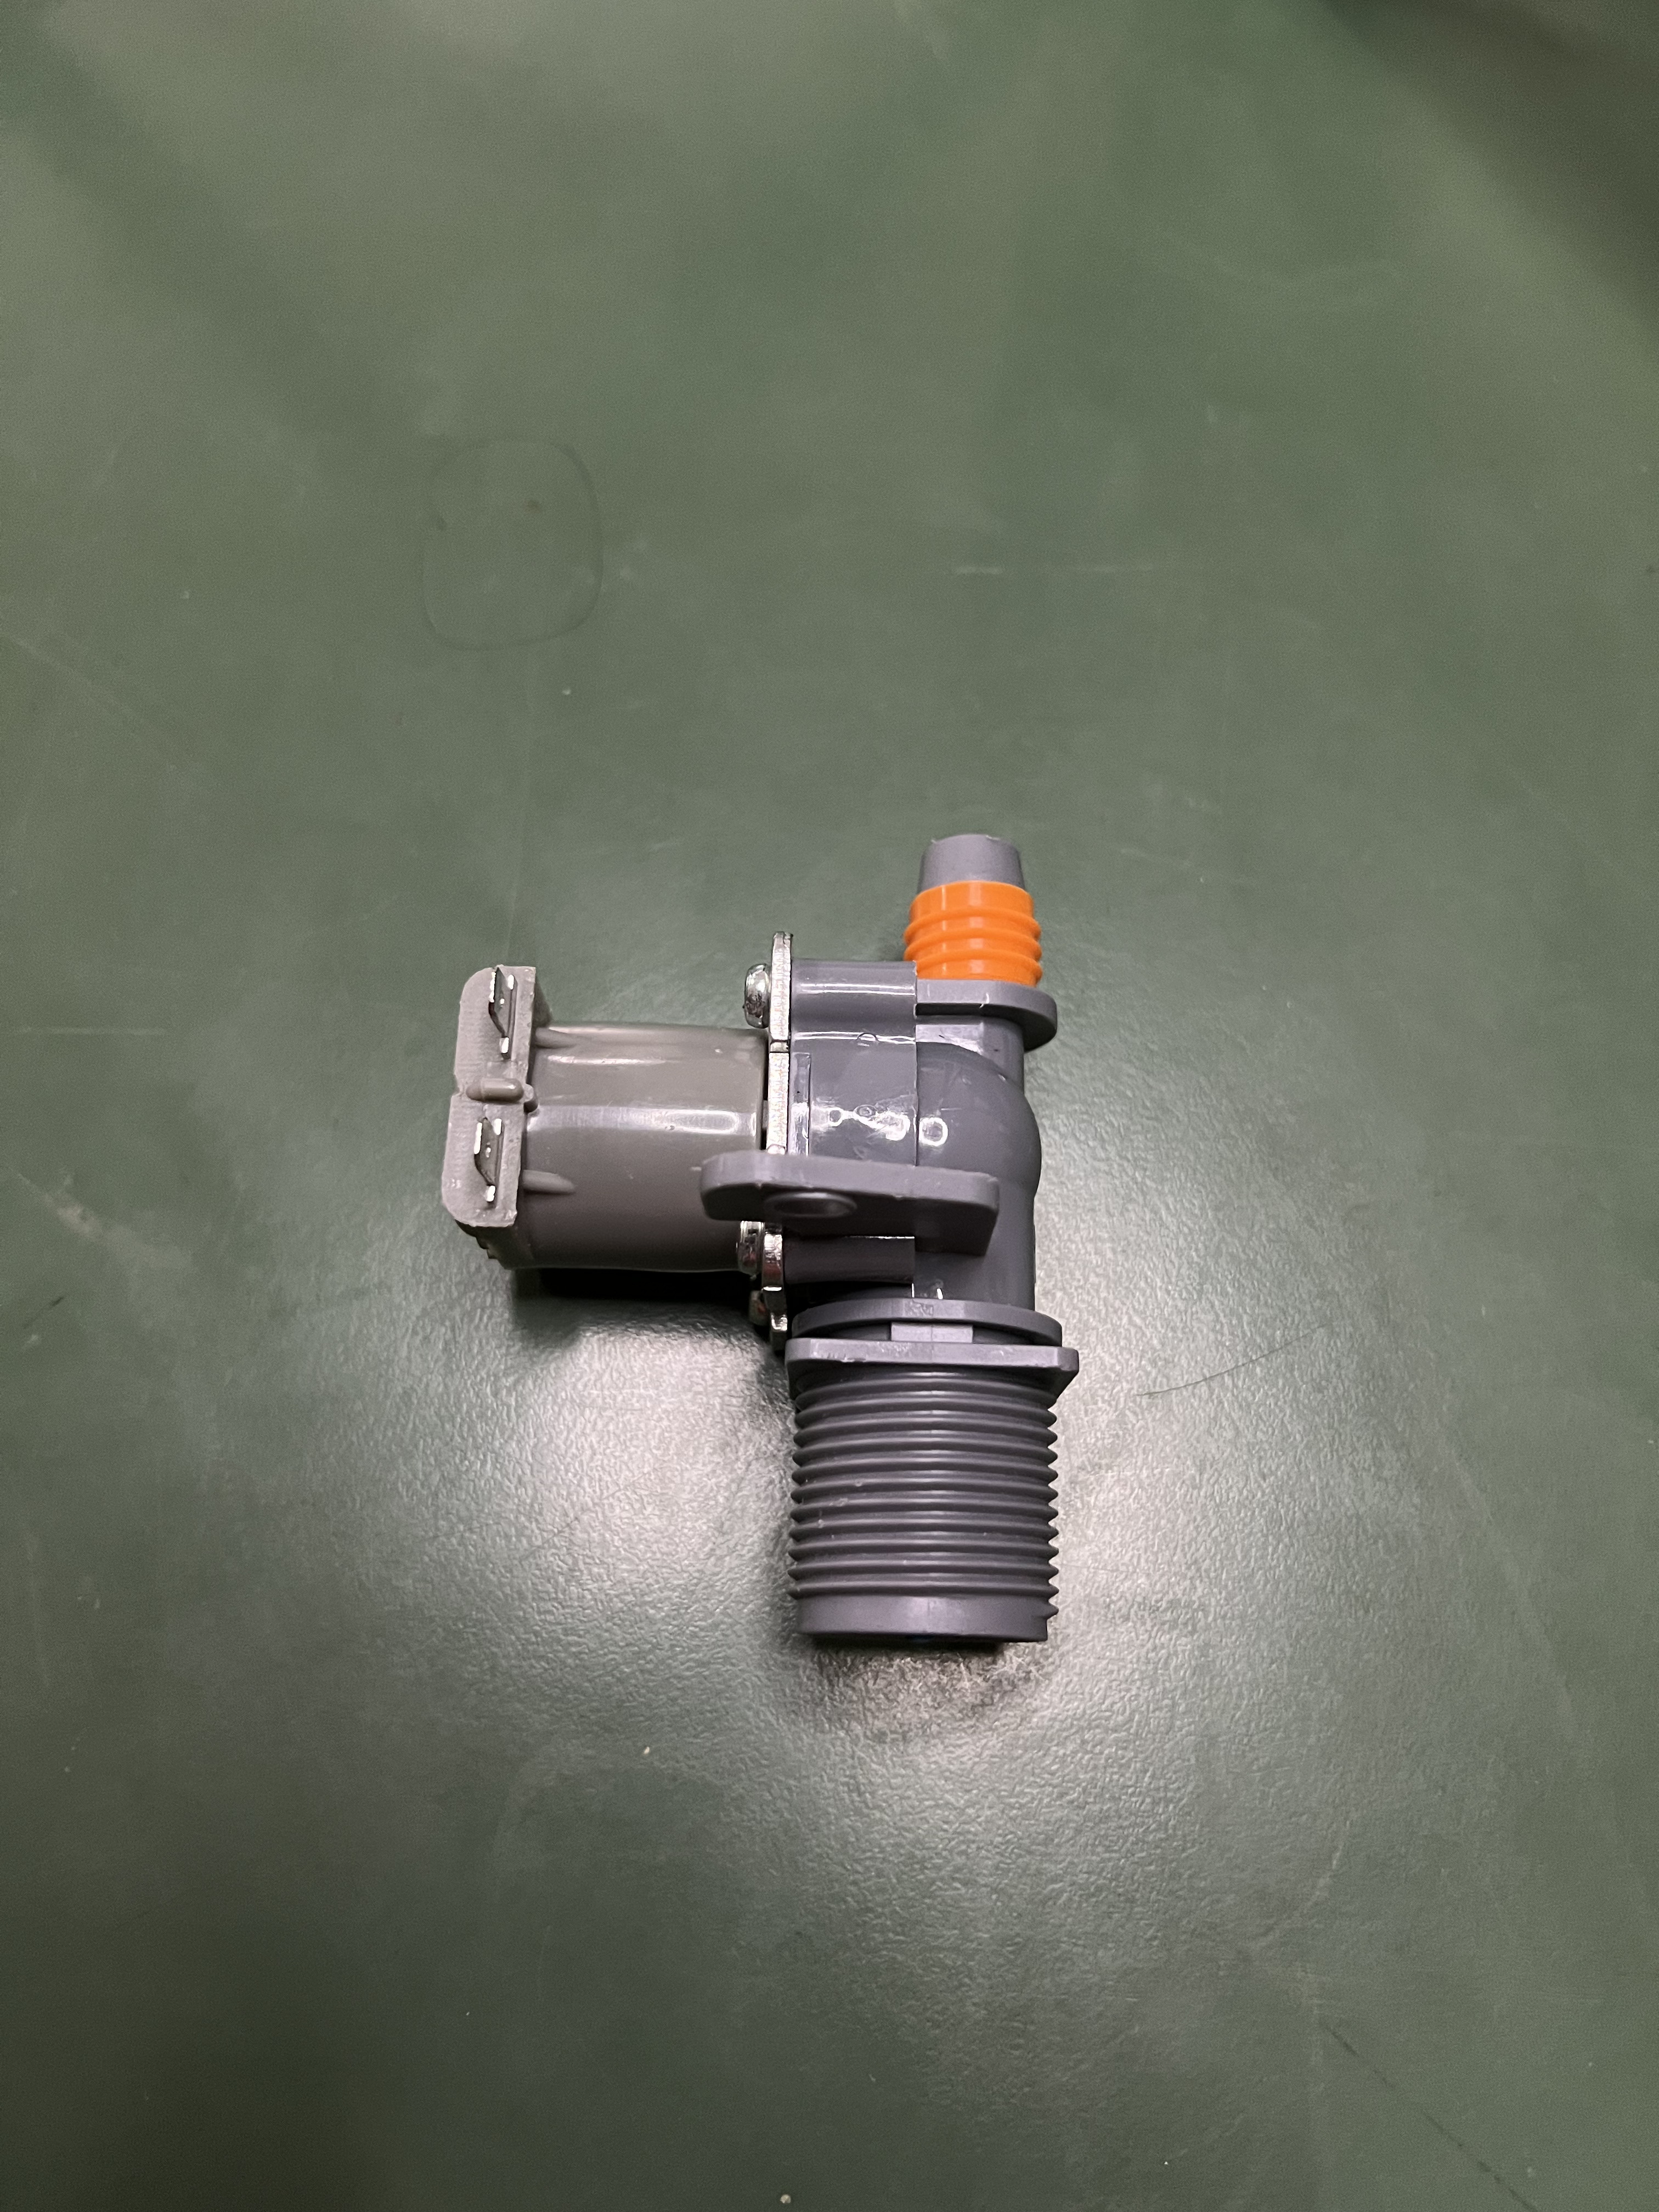inlet_valves: (373, 836, 1281, 1686)
